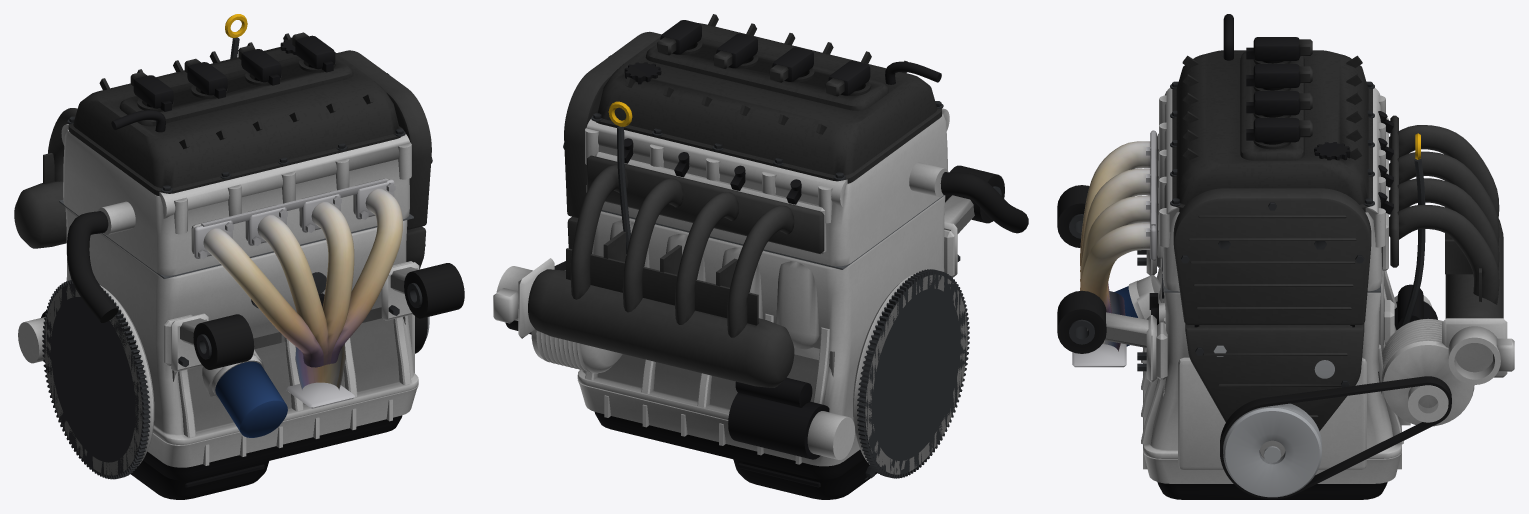
File: engine-hi-v1.glb
3 views of the same model, side by side, from view 1: azimuth 30°, elevation 25°; view 2: azimuth 150°, elevation 25°; view 3: azimuth 270°, elevation 25° (orthographic). The views are drawn at different scales.
Visible parts, largest first — view 1: valve_cover, block, exhaust_manifold, head, flywheel, oil_pan, timing_cover, intake_manifold, mount_rear, oil_filter, mount_front, coolant_hose (+6 smaller); view 2: intake_manifold, valve_cover, block, head, flywheel, oil_pan, starter, timing_cover, coolant_hose, alternator, mount_rear, dipstick (+4 smaller); view 3: timing_cover, valve_cover, intake_manifold, block, exhaust_manifold, crank_pulley, alternator, head, oil_pan, mount_front, accessory_belt, mount_rear (+7 smaller).
Boxes of the visible parts, x1=… form: valve_cover: x1=67, y1=33, x2=405, y2=195; block: x1=65, y1=207, x2=418, y2=444; exhaust_manifold: x1=194, y1=179, x2=402, y2=408; head: x1=61, y1=124, x2=411, y2=275; flywheel: x1=42, y1=280, x2=154, y2=479; oil_pan: x1=131, y1=384, x2=418, y2=499; timing_cover: x1=337, y1=50, x2=432, y2=269; intake_manifold: x1=14, y1=108, x2=77, y2=248; mount_rear: x1=171, y1=313, x2=254, y2=372; oil_filter: x1=211, y1=355, x2=287, y2=437; mount_front: x1=381, y1=262, x2=464, y2=320; coolant_hose: x1=67, y1=211, x2=118, y2=322; intake_manifold: x1=493, y1=155, x2=824, y2=387; valve_cover: x1=591, y1=14, x2=943, y2=183; block: x1=577, y1=195, x2=954, y2=420; head: x1=585, y1=108, x2=949, y2=266; flywheel: x1=853, y1=269, x2=969, y2=478; oil_pan: x1=577, y1=380, x2=877, y2=499; starter: x1=728, y1=377, x2=854, y2=459; timing_cover: x1=563, y1=31, x2=661, y2=248; coolant_hose: x1=940, y1=172, x2=1028, y2=233; alternator: x1=531, y1=270, x2=622, y2=373; mount_rear: x1=944, y1=165, x2=1004, y2=277; dipstick: x1=608, y1=101, x2=632, y2=253; timing_cover: x1=1173, y1=188, x2=1371, y2=431; valve_cover: x1=1170, y1=14, x2=1374, y2=212; intake_manifold: x1=1389, y1=115, x2=1514, y2=384; block: x1=1136, y1=255, x2=1403, y2=469; exhaust_manifold: x1=1072, y1=130, x2=1156, y2=367; crank_pulley: x1=1223, y1=403, x2=1321, y2=497; alternator: x1=1381, y1=318, x2=1474, y2=426; head: x1=1157, y1=88, x2=1388, y2=291; oil_pan: x1=1143, y1=390, x2=1401, y2=499; mount_front: x1=1057, y1=290, x2=1156, y2=382; accessory_belt: x1=1220, y1=376, x2=1451, y2=499; mount_rear: x1=1057, y1=185, x2=1156, y2=275.
Bounding box in the file's own units: 0.608 × 0.596 × 0.629.
Materials: 18 (5 with a texture image).
